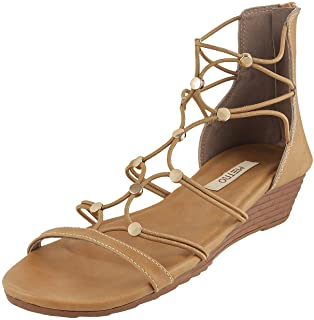shoes: (1, 1, 314, 317)
